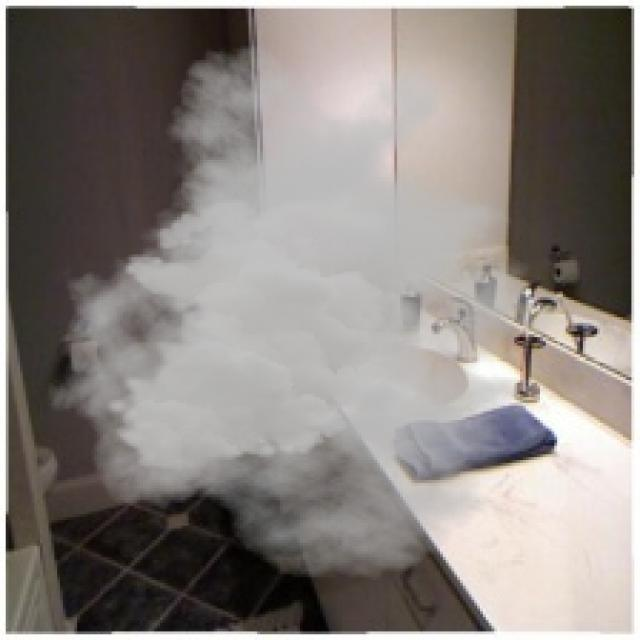smoke: (46, 43, 591, 580)
